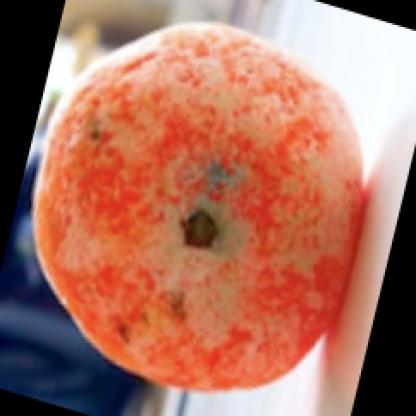rotten: (29, 21, 370, 395)
